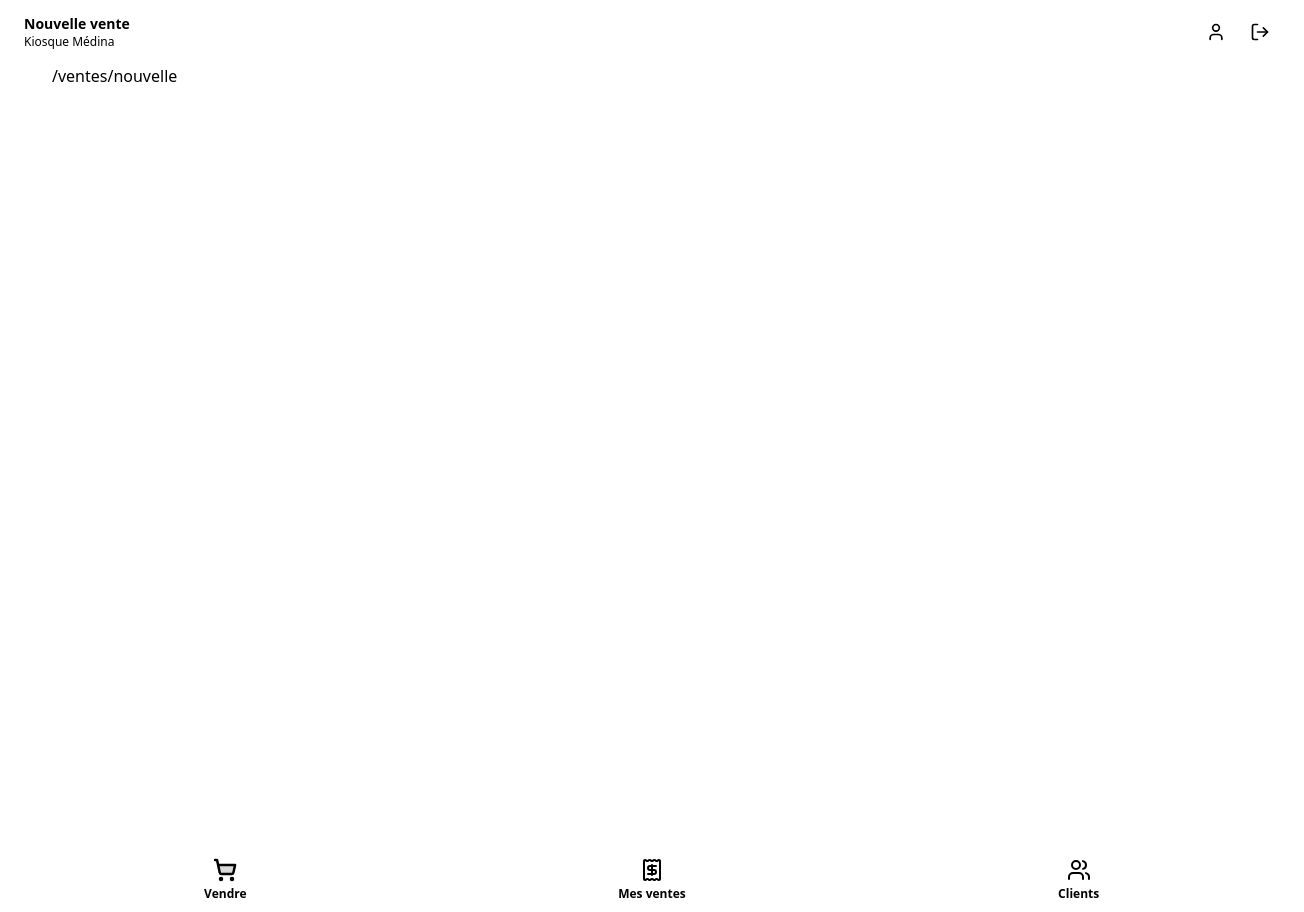
Layout — navigation par rôle › fontainier : un onglet navigue et devient actif
The width and height of the screenshot is (1304, 912).
Click the button "Clients" at (1079, 880), box left=865, top=848, right=1292, bottom=911
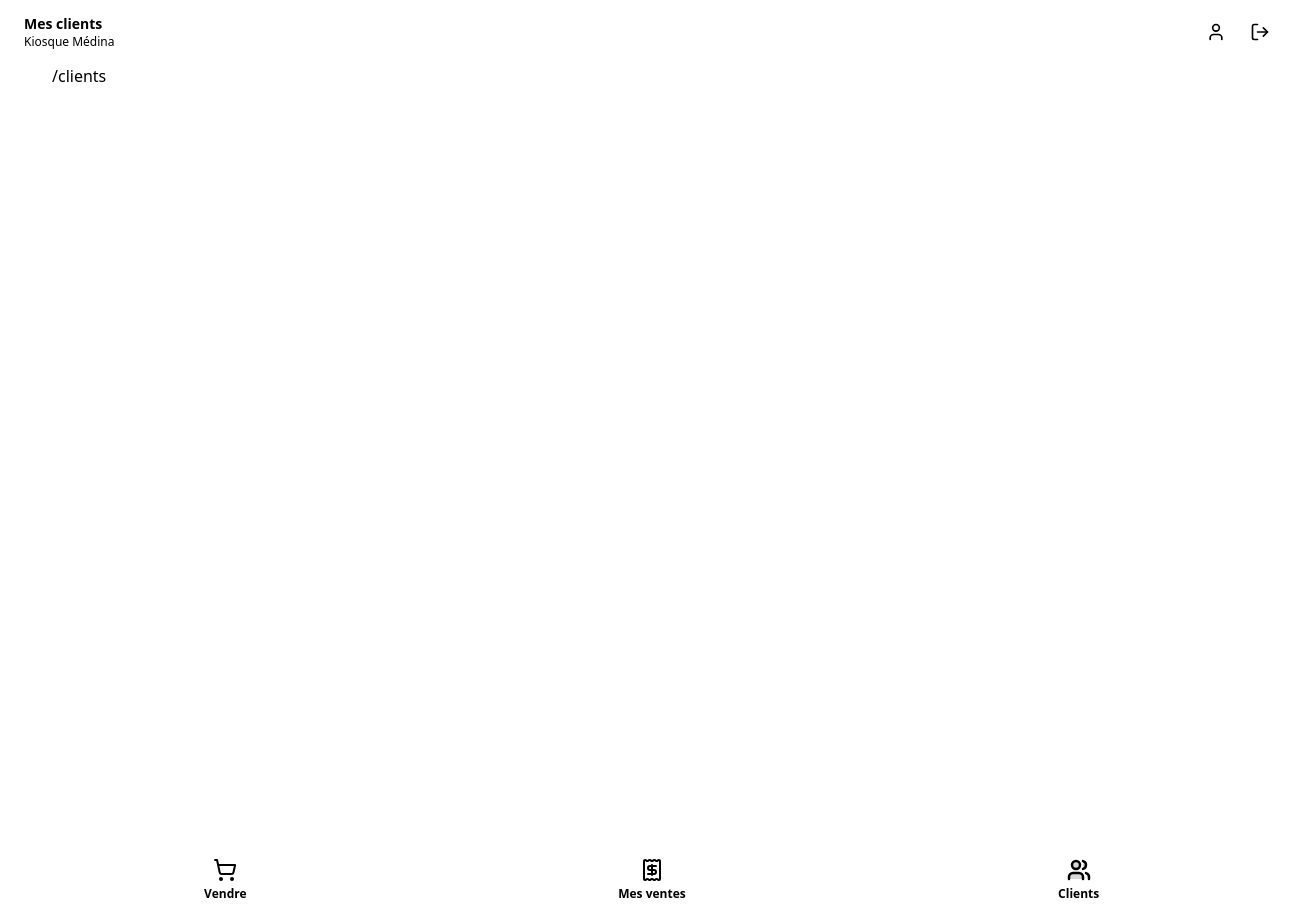
Check: the text with test id "path" reads "/clients", box left=52, top=65, right=106, bottom=87
